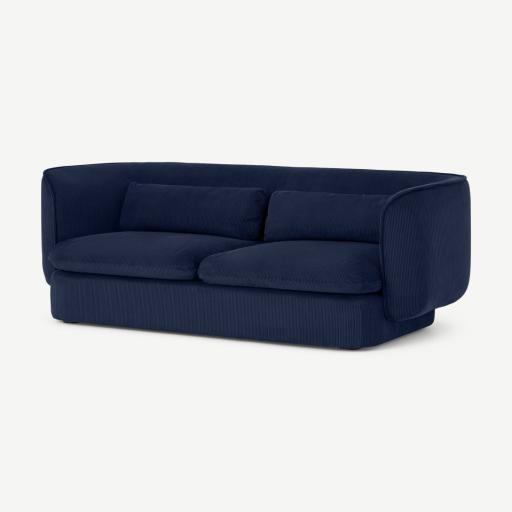back_cushion: (120, 182, 387, 242)
base: (51, 270, 434, 349)
left_arm: (380, 177, 470, 320)
right_arm: (42, 166, 137, 259)
seat_cushion: (50, 231, 381, 293)
two-seater: (0, 0, 511, 512)
